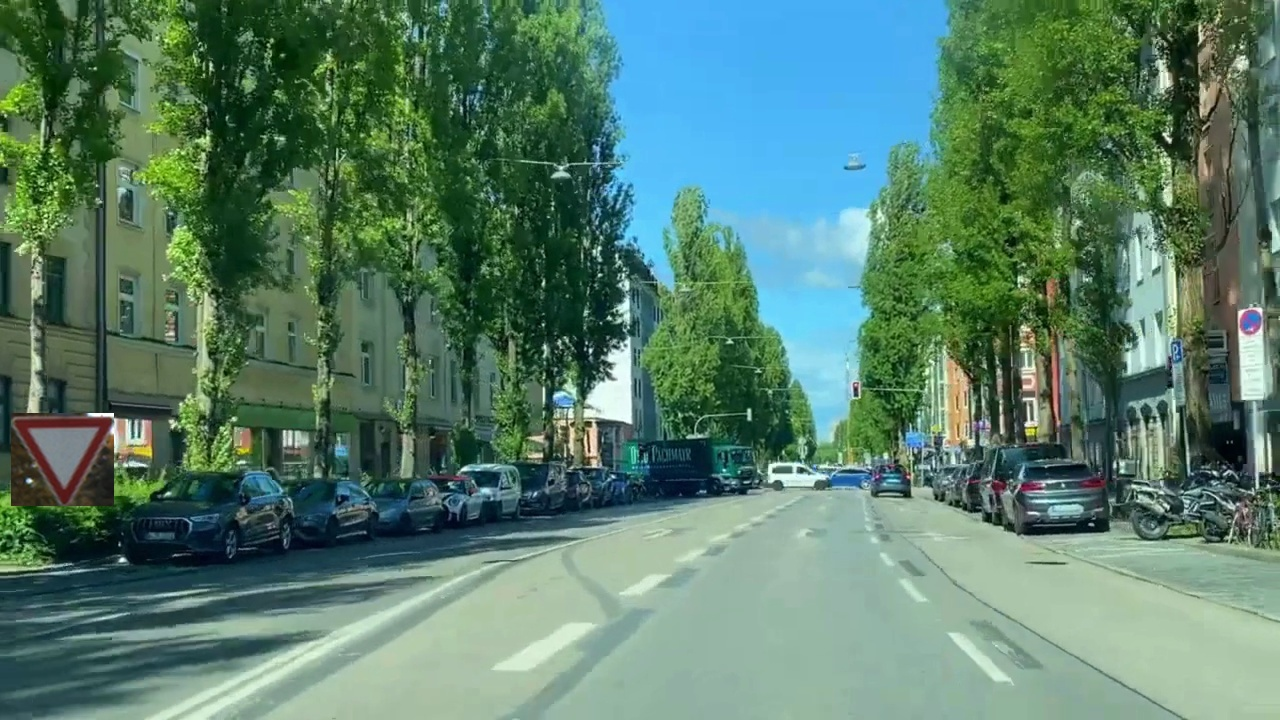Yield: (11, 413, 114, 506)
